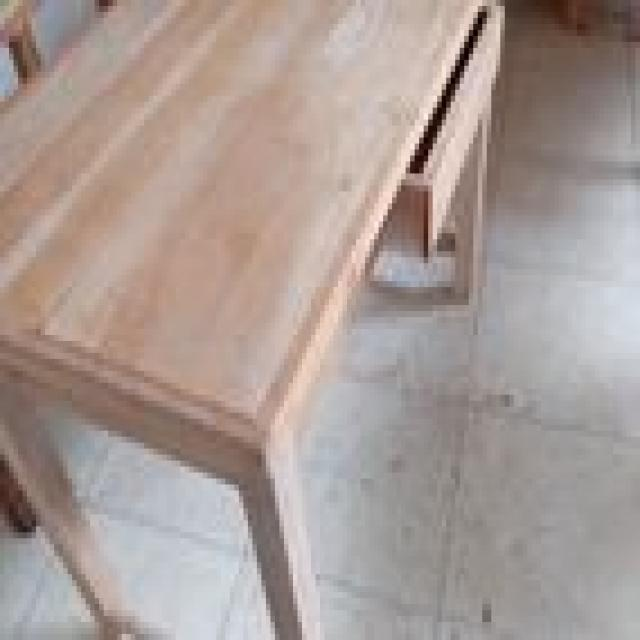others: (4, 6, 500, 640)
